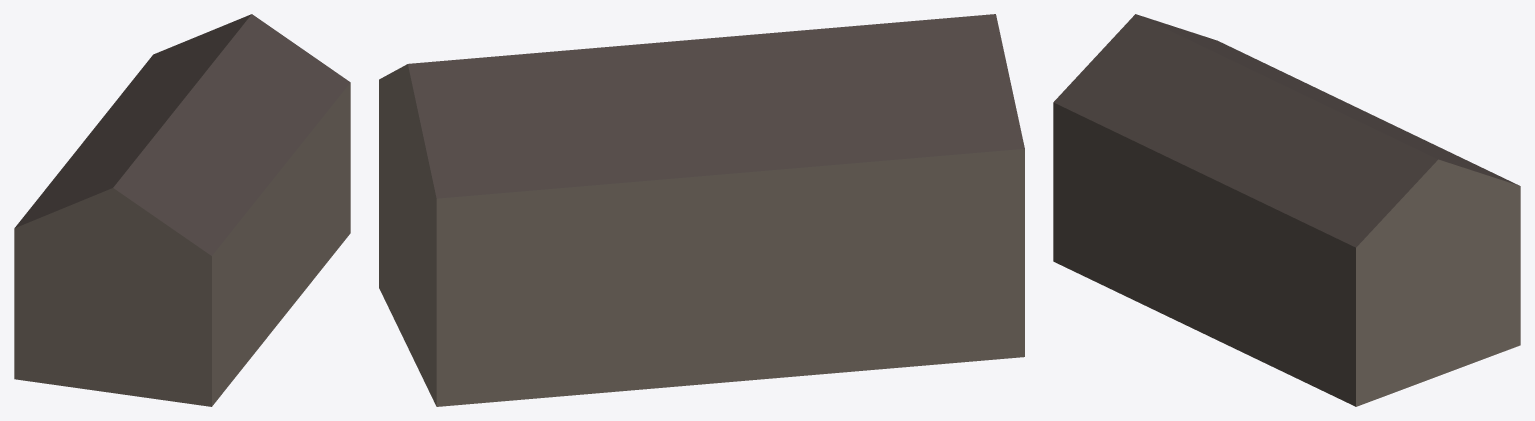
3 views of the same model, side by side, from view 1: azimuth 30°, elevation 25°; view 2: azimuth 150°, elevation 25°; view 3: azimuth 270°, elevation 25° (orthographic). The views are drawn at different scales.
Visible parts, largest first — view 1: HP-w859424166; view 2: HP-w859424166; view 3: HP-w859424166.
Boxes of the visible parts, x1,y1,x2,y2 form: HP-w859424166: (14, 14, 350, 406); HP-w859424166: (379, 14, 1024, 406); HP-w859424166: (1053, 14, 1520, 406).
Bounding box in the file's own units: 25.11 × 12.25 × 23.94.
